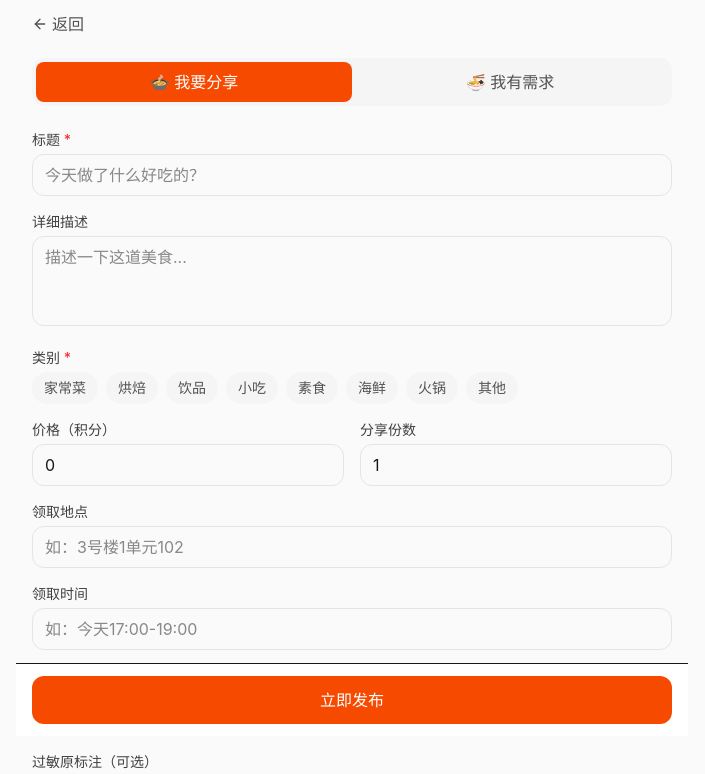
SharedKitchen/Create 发布美食表单 › 标题少于2字符校验失败显示"标题至少需要2个字符"
The image size is (705, 774).
Type "A" into the field with placeholder "今天做了什么好吃的？".
click(352, 175); type("A")  # box [32, 154, 672, 196]
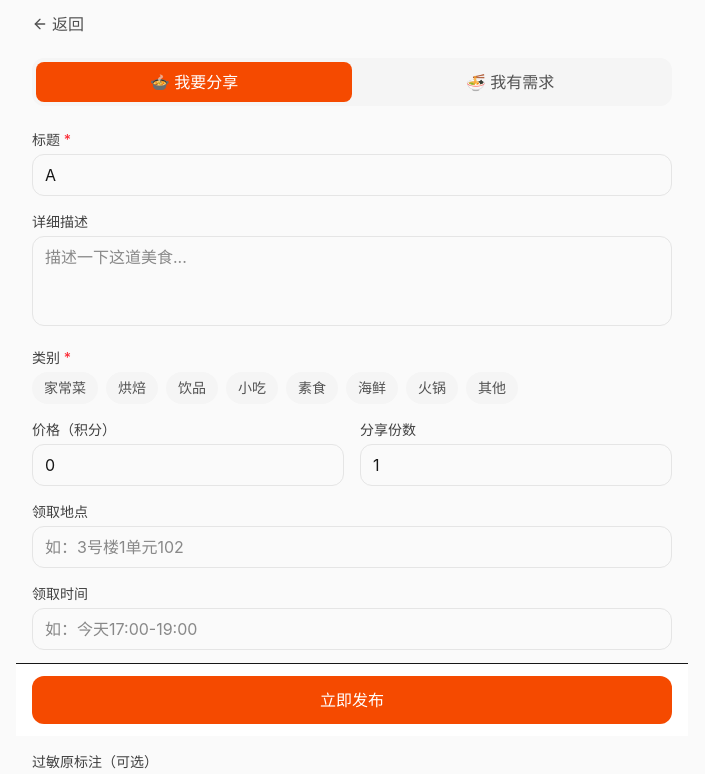
Leave the field with placeholder "今天做了什么好吃的？", box [32, 154, 672, 196]
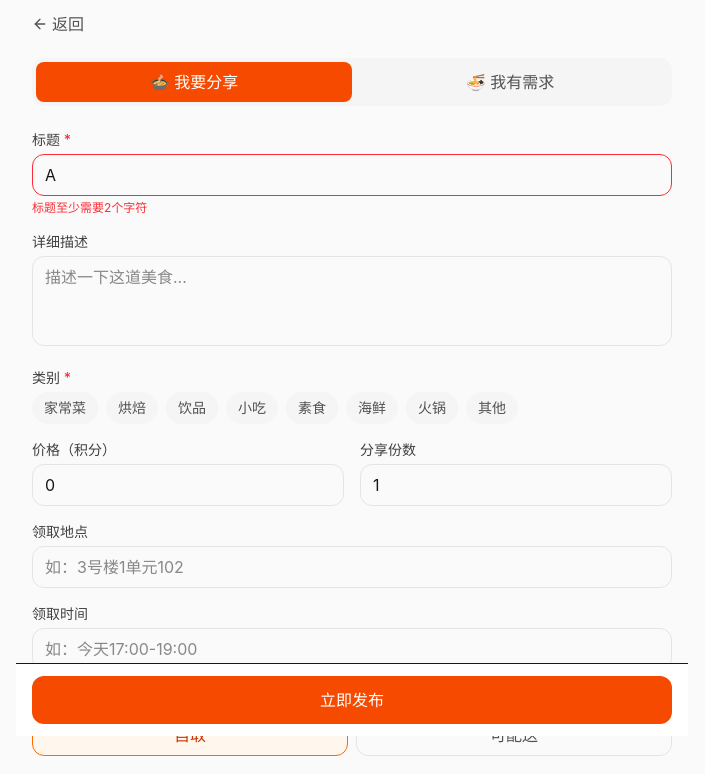
Expected: the text "标题至少需要2个字符" is shown, [32, 200, 147, 215]
